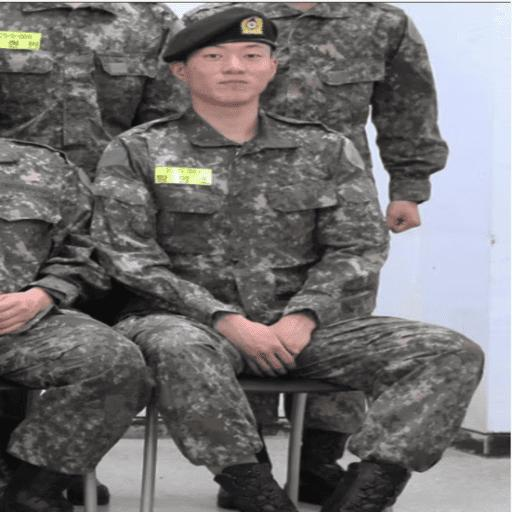korea army: (87, 6, 489, 511), (1, 139, 153, 512), (176, 0, 459, 187), (0, 1, 187, 142)
